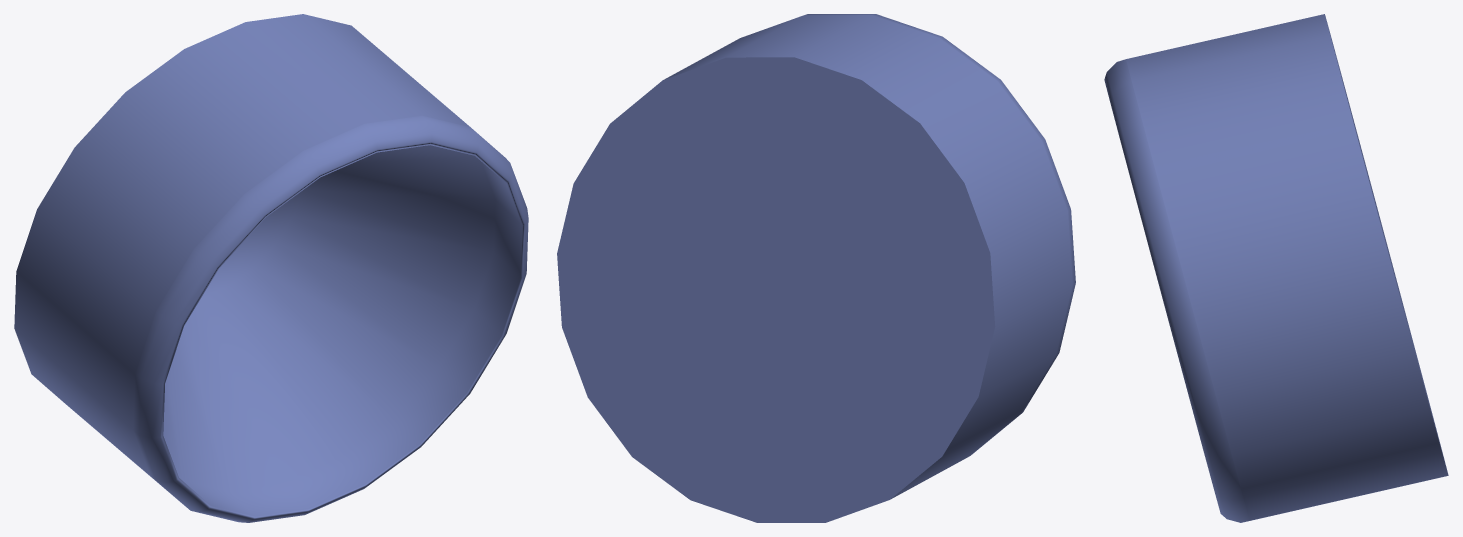
File: BR1_8shapes_Round_Classic_Metal.001 3.glb
3 views of the same model, side by side, from view 1: azimuth 30°, elevation 25°; view 2: azimuth 150°, elevation 25°; view 3: azimuth 270°, elevation 25° (orthographic).
Parts seen in each view (by area): view 1: BR1_8shapes_Round_Classic_Metal.001; view 2: BR1_8shapes_Round_Classic_Metal.001; view 3: BR1_8shapes_Round_Classic_Metal.001.
Part boxes in pixels (left/top/right/bottom): BR1_8shapes_Round_Classic_Metal.001: left=14, top=14, right=528, bottom=522; BR1_8shapes_Round_Classic_Metal.001: left=557, top=14, right=1075, bottom=522; BR1_8shapes_Round_Classic_Metal.001: left=1104, top=14, right=1448, bottom=522.
Size of the model in its own units: 0.5033 by 0.5085 by 0.343.
